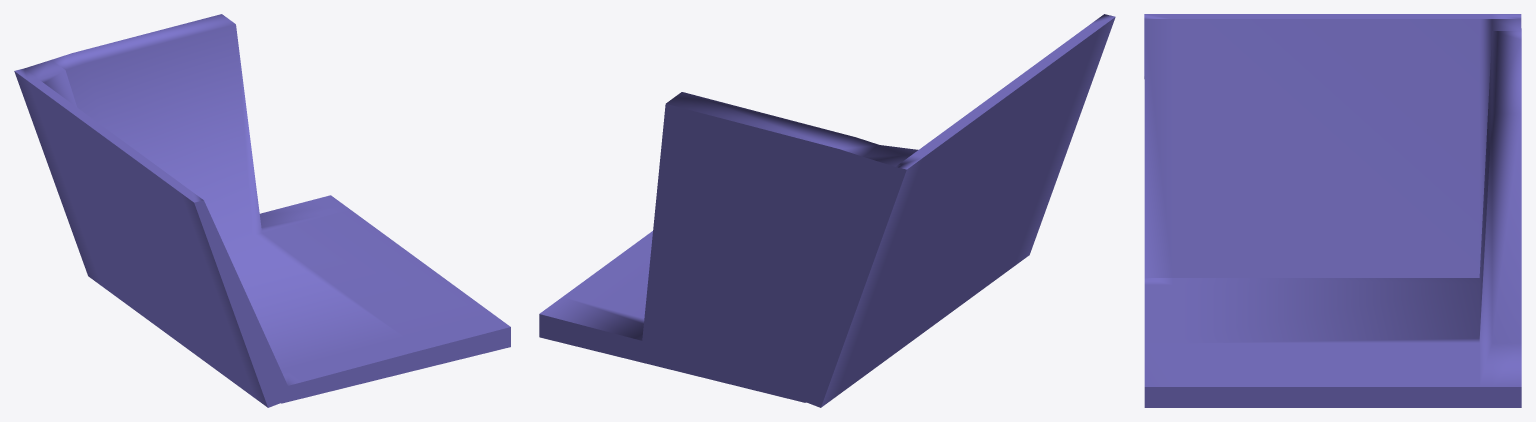
File: sideStand_L.fbx
3 views of the same model, side by side, from view 1: azimuth 30°, elevation 25°; view 2: azimuth 150°, elevation 25°; view 3: azimuth 270°, elevation 25° (orthographic). The views are drawn at different scales.
Parts seen in each view (by area): view 1: SideStand; view 2: SideStand; view 3: SideStand.
Part boxes in pixels (<box>): SideStand: <box>14,14,510,407</box>; SideStand: <box>539,14,1115,407</box>; SideStand: <box>1144,14,1521,407</box>.
Bounding box in the file's own units: 2718 × 1882 × 2676.
